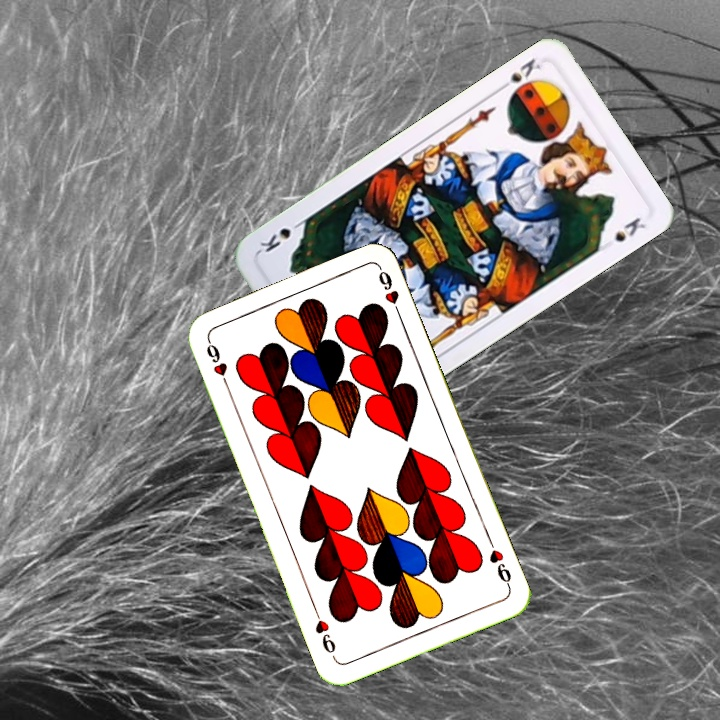H9: (202, 335, 233, 392), (484, 534, 514, 591)
SK: (495, 54, 543, 101)
